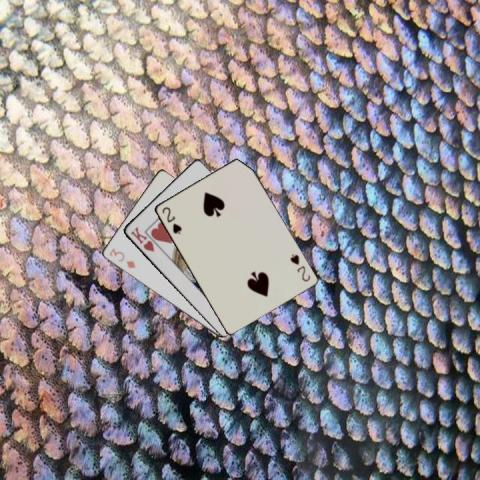2s: (158, 203, 183, 236), (287, 251, 311, 283)
3d: (106, 246, 137, 270)
Kh: (128, 224, 156, 253)
